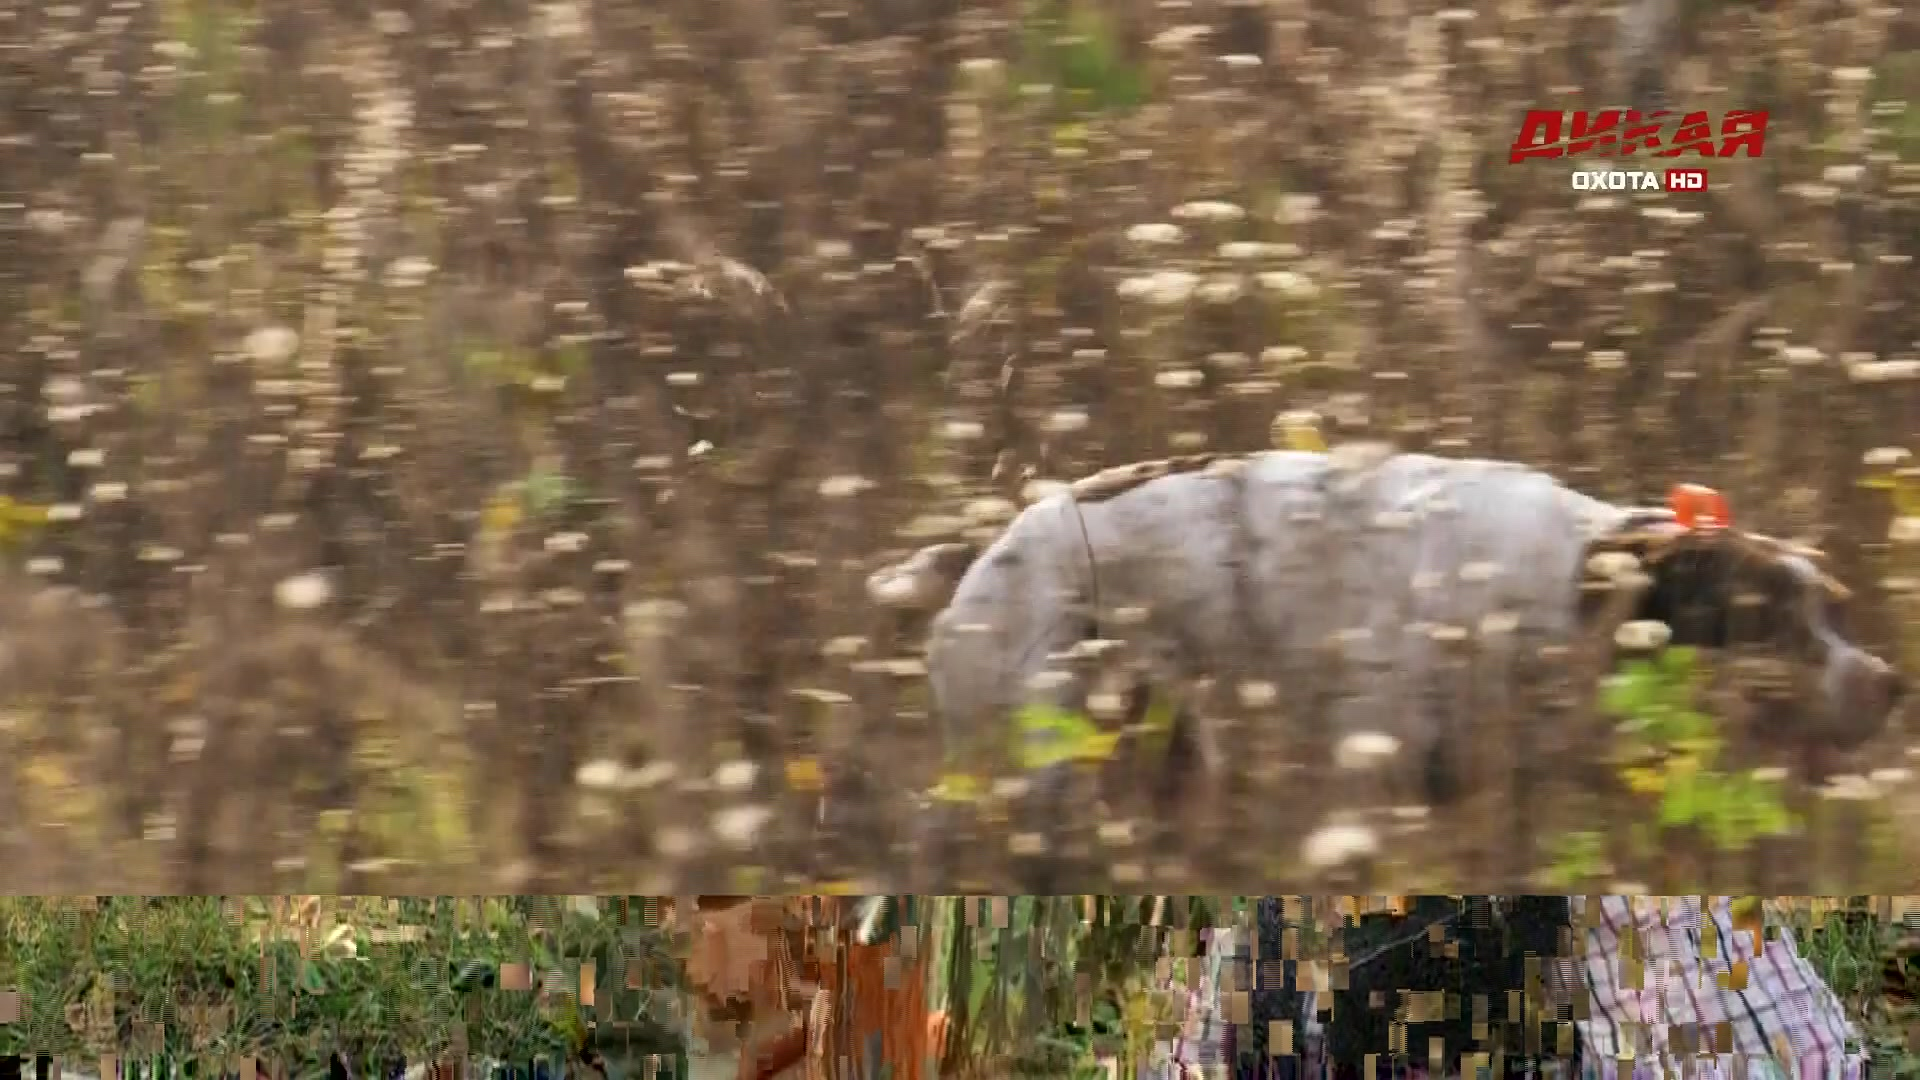Dikaya_Ohota_HD: (1507, 104, 1771, 203)
